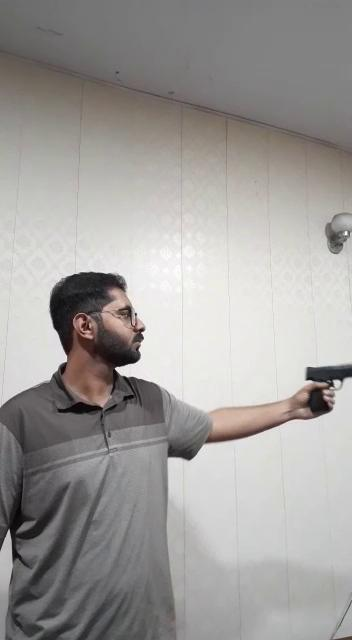criminal: (0, 267, 352, 640)
weapon: (300, 359, 352, 423)
